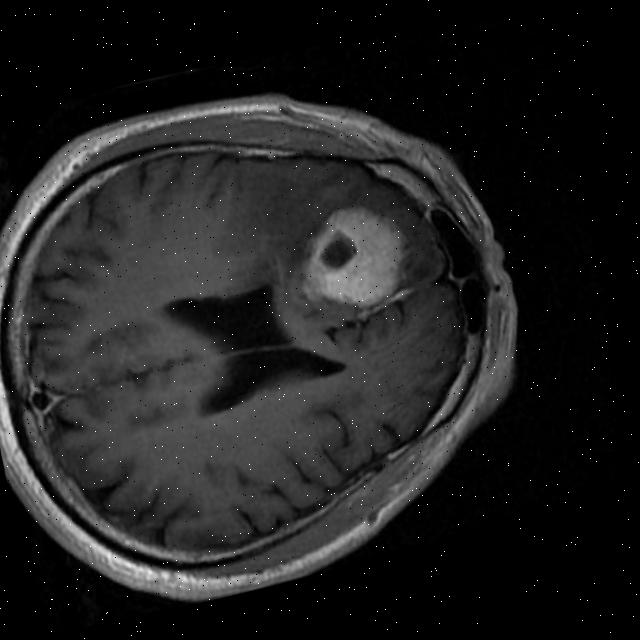Meningioma: (284, 189, 424, 323)
